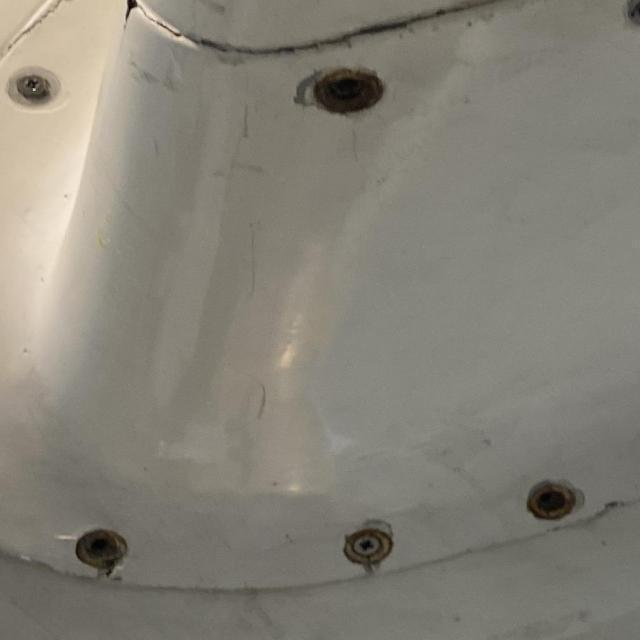Crack: (116, 0, 172, 40)
Missing_Fastener: (306, 74, 389, 112), (520, 479, 589, 521), (72, 528, 131, 574), (624, 0, 640, 31)
